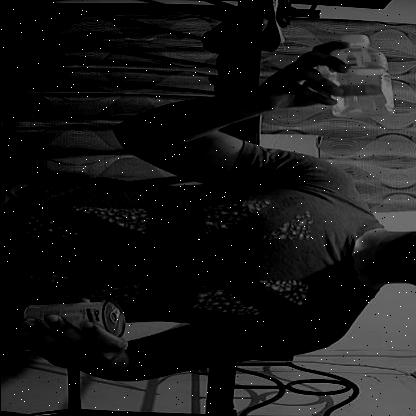Plastic Bottle: (314, 27, 392, 127)
